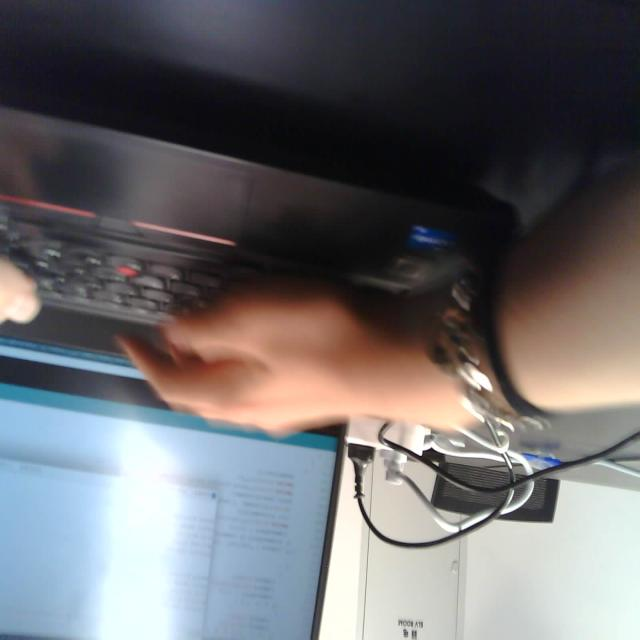keyboard-with-hands: (0, 105, 510, 408)
